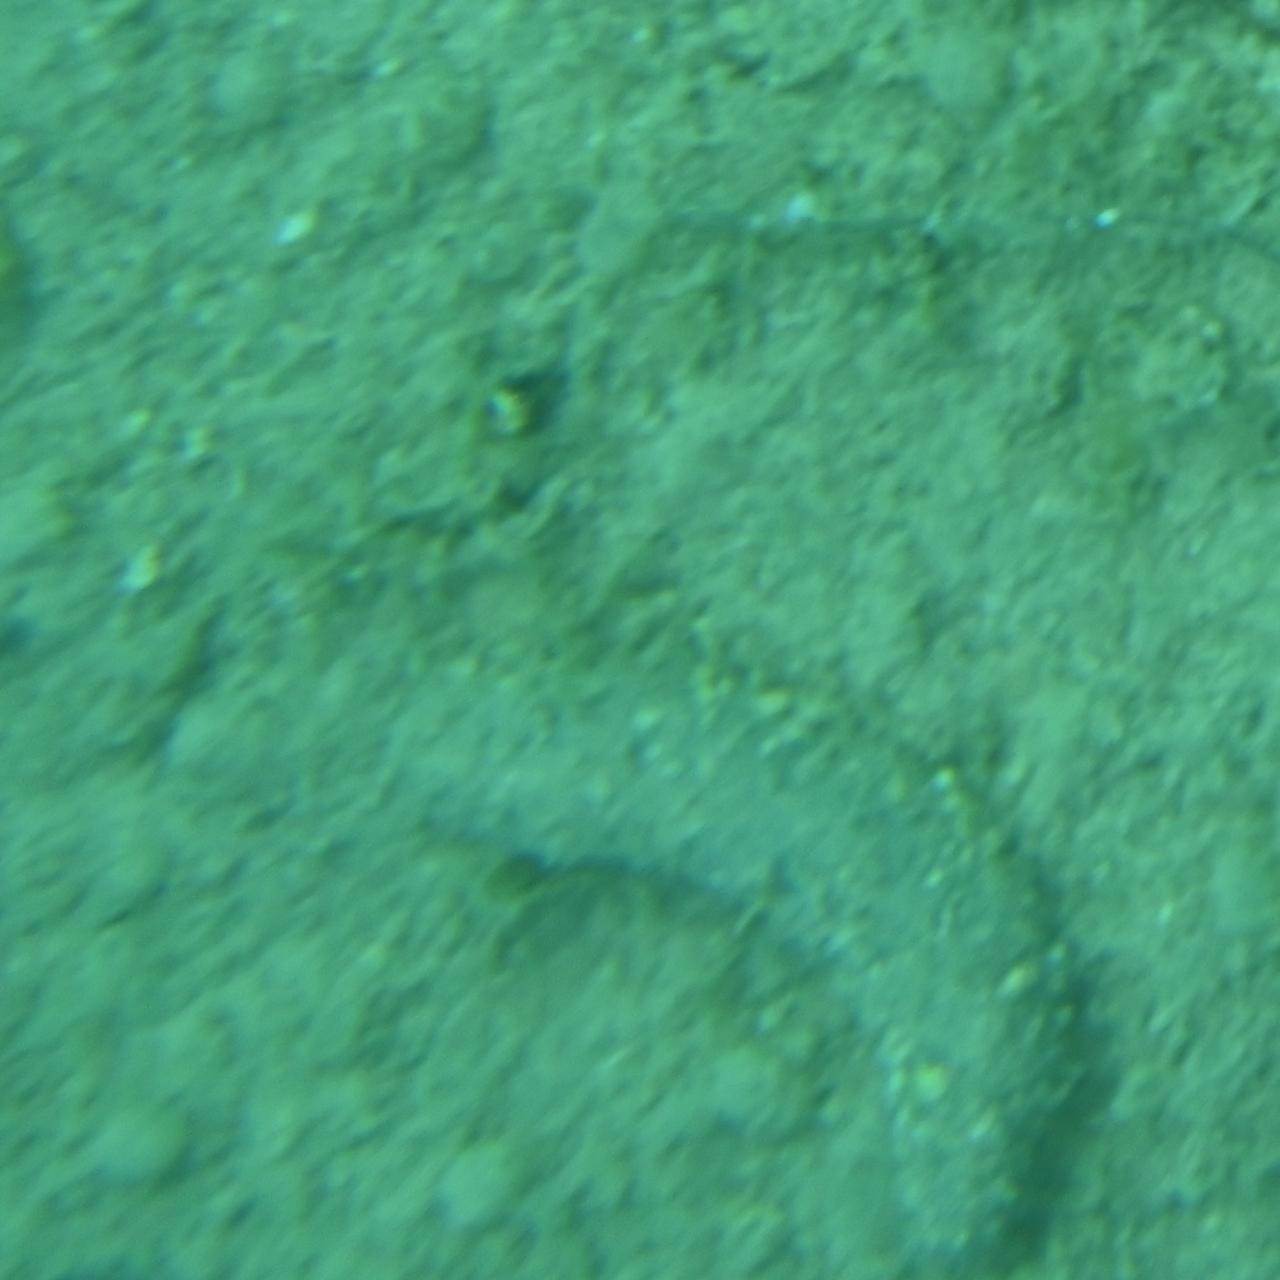Holothuria tubulosa: (170, 633, 1110, 1280)
